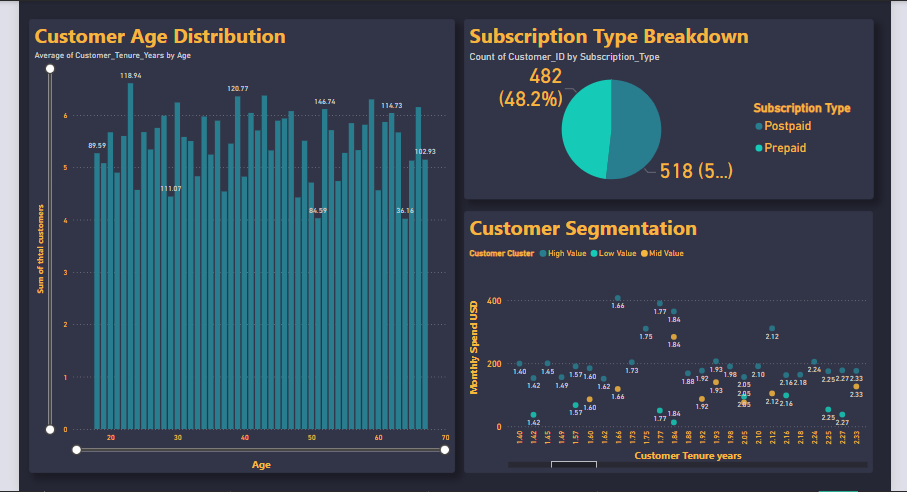

What the dashboard file says about the page in this screenshot:
{"tool":"powerbi","page":{"name":"Customer Age Distribution","canvas":[1280,720],"ordinal":0},"visuals":[{"type":"columnChart","title":"Customer Age Distribution","fields":{"Category":["Sheet1.Age"],"Y":["Avg(Sheet1.Customer_Tenure_Years)"]},"box":[14.7,26.4,626,667.1],"z":0},{"type":"pieChart","title":"Subscription Type Breakdown","fields":{"Category":["Sheet1.Subscription_Type"],"Y":["CountNonNull(Sheet1.Customer_ID)"]},"box":[653.8,26.2,601.5,264.6],"z":1000},{"type":"scatterChart","title":"Customer Segmentation","fields":{"X":["Sheet1.Customer_Tenure_Years"],"Y":["Sum(Sheet1.Monthly_Spend_USD)"],"Series":["Sheet1.Customer Cluster"]},"box":[653.9,308.6,601,385],"z":2000}]}

Visuals, with their boxes on the page's 1280x720 design canvas (x1, y1, x2, y2). These are canvas units, not pixel positions in the 907x492 screenshot, which may show the page scaled, cropped or inside an application window:
"Customer Age Distribution" columnChart: 15/26/641/694
"Subscription Type Breakdown" pieChart: 654/26/1255/291
"Customer Segmentation" scatterChart: 654/309/1255/694
